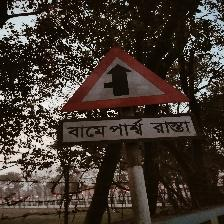Side-road-left: (58, 45, 197, 146)
